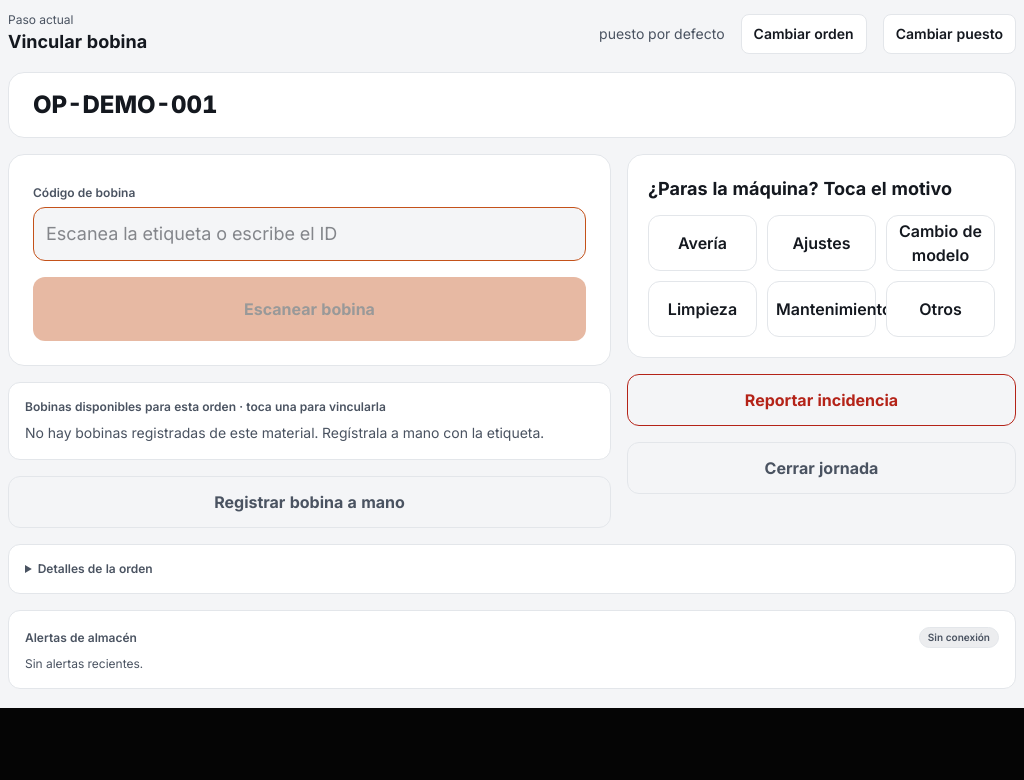
it: Panel de Operario (directriz no abrumar) › tras vincular, el fin de bobina pide radio en mm y hay botón Retirar
The width and height of the screenshot is (1024, 780).
Step 1. Type "COIL-L-DEMO" into the field with placeholder "Escanea la etiqueta o escribe el ID" → (310, 234), box [33,207,586,261]
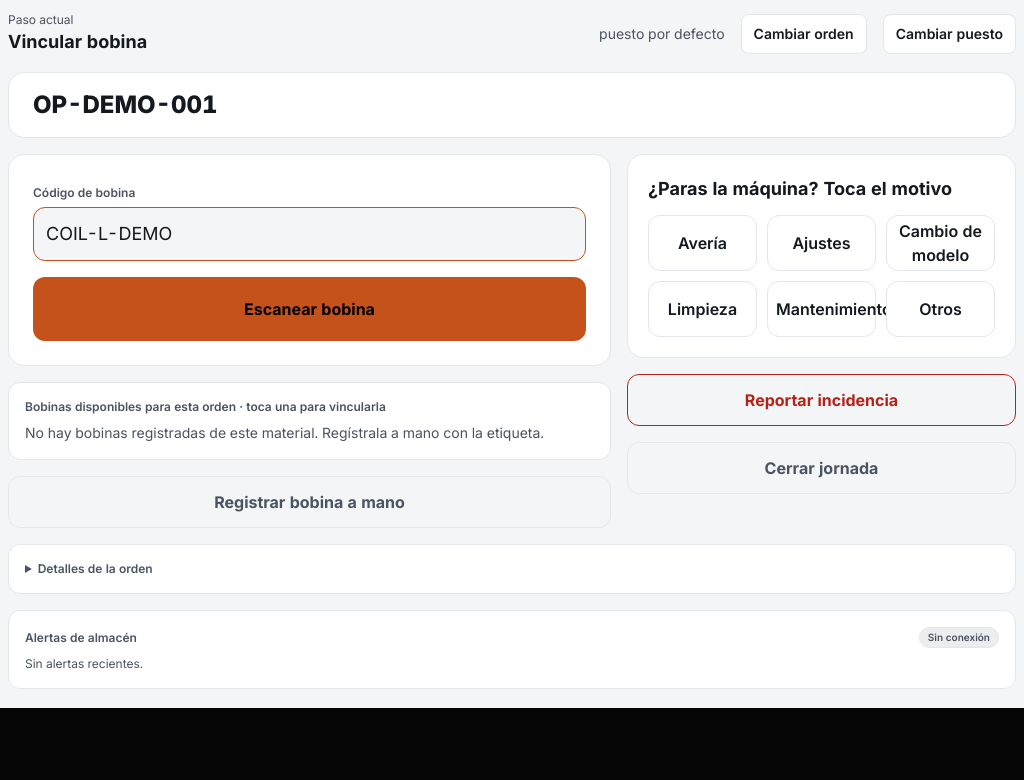
Step 2. Click the button "Escanear bobina" → (310, 309), box [33,277,586,341]
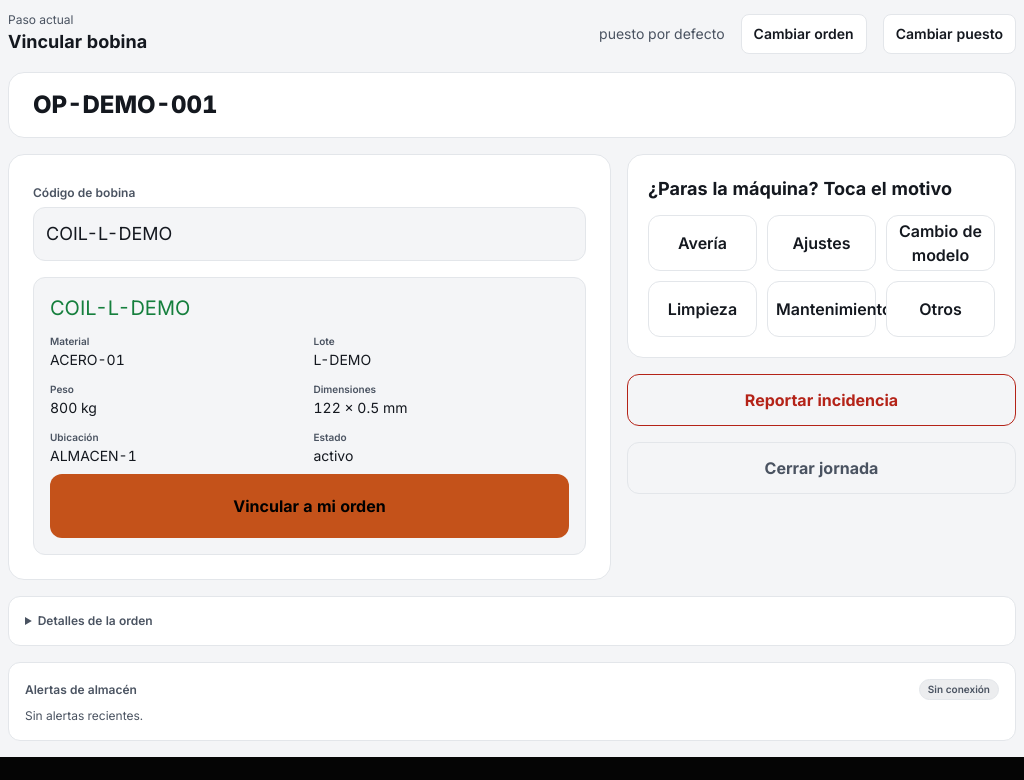
El flujo de demo: vincular muestra el panel de producción
Step 3. Click the button "Vincular a mi orden" → (310, 506), box [50,474,569,538]
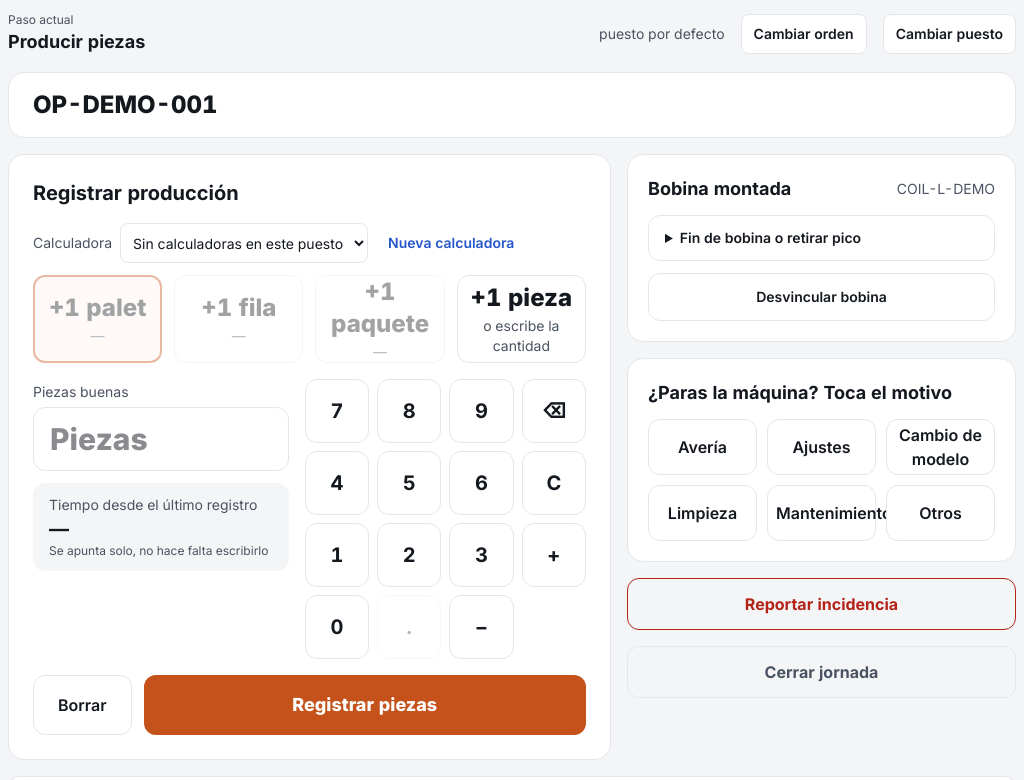
Now the button "Registrar piezas" is shown, box [144,675,586,735]
